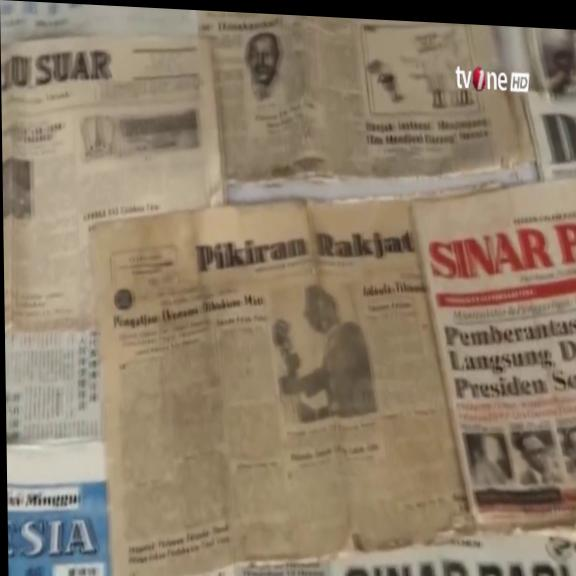Kertas: (76, 184, 494, 575), (3, 13, 220, 382), (208, 13, 531, 218)
